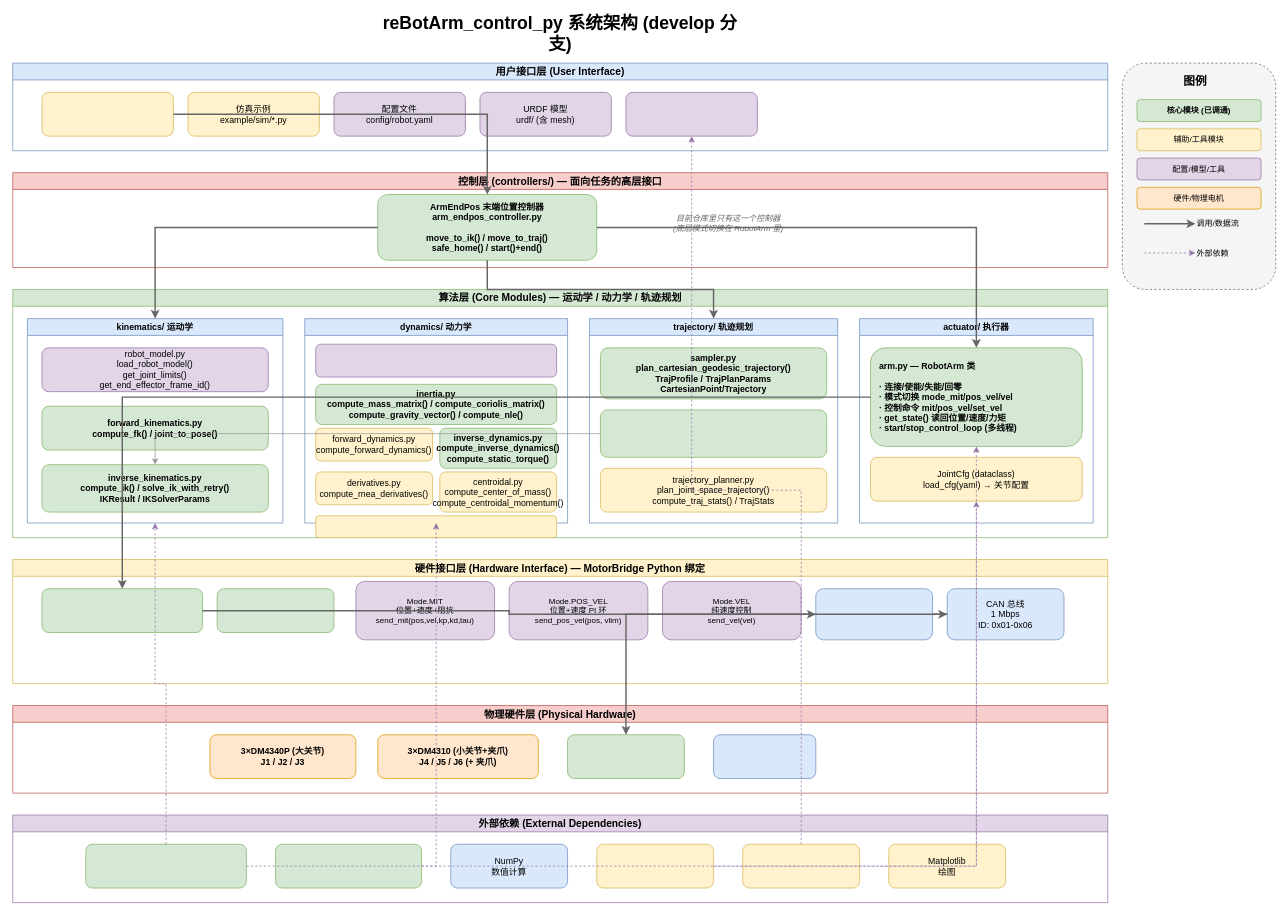
Some shapes in this 1288 by 915 pixel diagram are drawn without their labels. The shapes that lost their labels are listed below. From the top down, each one's centre as x and y in pixels, then its label:
At point 107,114: "示例程序 example/0~10_*.py".
At point 691,114: "可视化 example/sim/visualizer.py".
At point 436,360: "robot_model.py load_dynamics_model() / set_gravity()".
At point 713,433: "clik_tracker.py (CLIK 跟踪) track_trajectory() IKParams / JointTrajectoryPoint".
At point 436,526: "energy.py compute_kinetic/potential/total_energy()".
At point 122,610: "motorbridge.Controller from_dm_serial(channel, 921600)".
At point 275,610: "Mode 枚举 (控制模式选择)".
At point 874,614: "串口桥 /dev/ttyACM0 921600 bps".
At point 625,756: "6 轴机械臂 (+夹爪)".
At point 764,756: "控制频率 500 Hz (默认)".
At point 165,866: "Pinocchio (pin) 刚体运动学/动力学引擎".
At point 348,866: "motorbridge (SDK) 底层电机控制".
At point 655,866: "PyYAML 配置解析".
At point 801,866: "Meshcat 3D 可视化".
